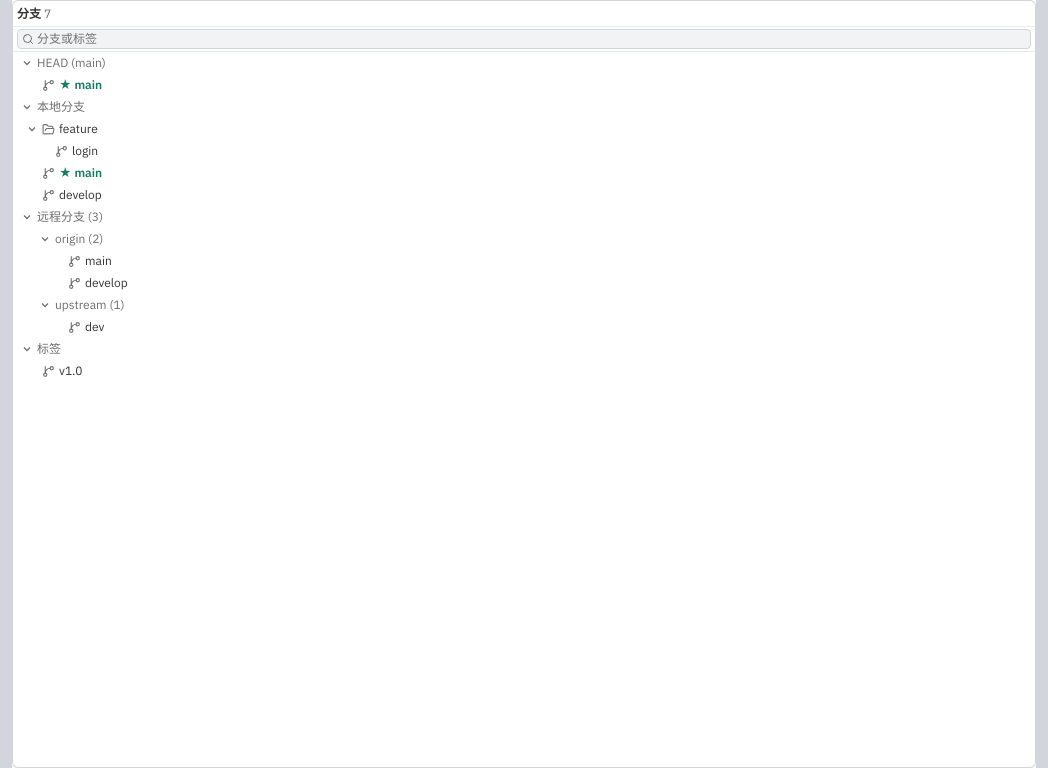
Test case: 分支搜索框隔离性（spec §8.1 / §16.2） › 清除按钮恢复完整列表
The width and height of the screenshot is (1048, 768).
Expected: the 2nd list item "main" is shown, [13,162,1035,184]
Type "login" into the field with placeholder "分支或标签" at point(532, 39), box [37,30,1026,48]
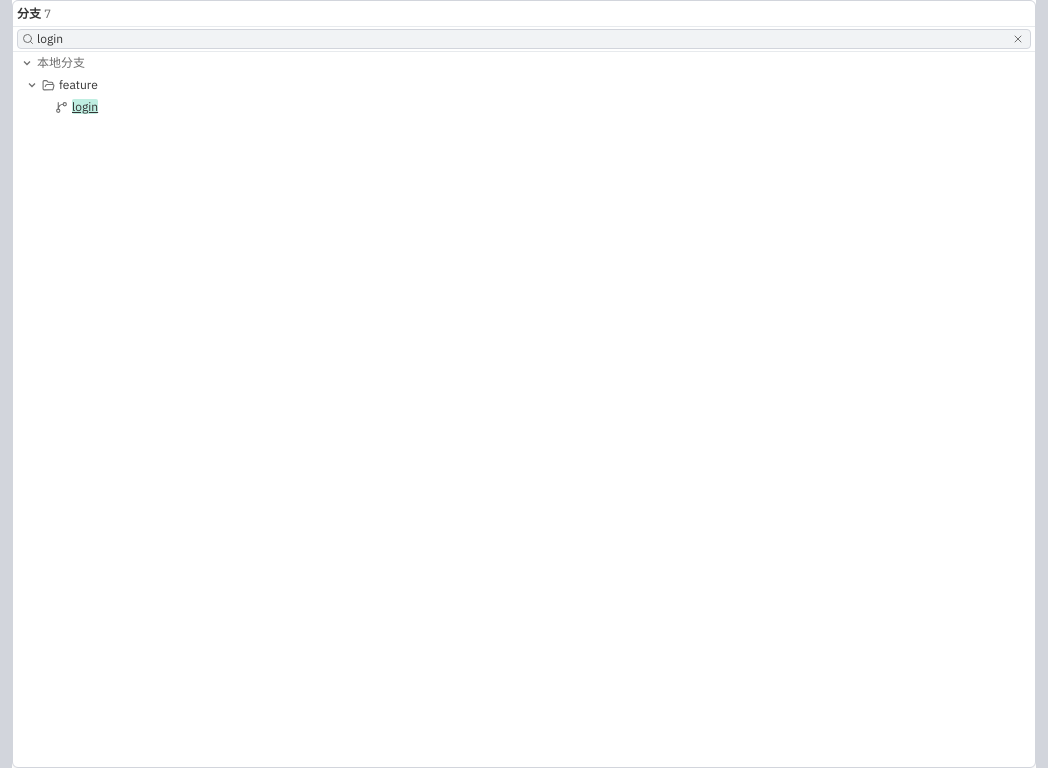
Click the button named "清除" at point(1018, 39), box [1010,31,1026,47]
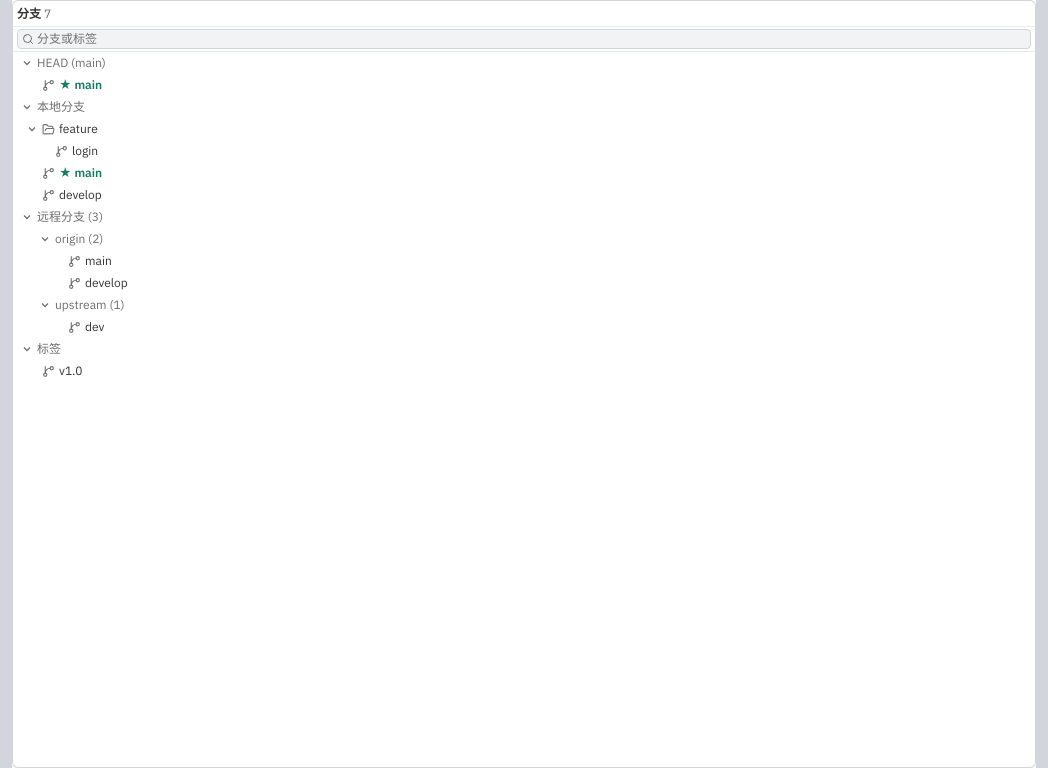
Expected: the 1st list item "develop" is shown, [13,184,1035,206]
